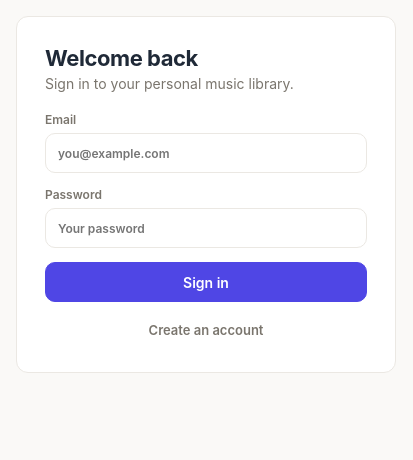
Test case: Login › submits entered credentials and shows authentication errors
Type "pianist@example.com" into the field labelled "Email". click: point(206, 153)
box: [45, 133, 367, 173]
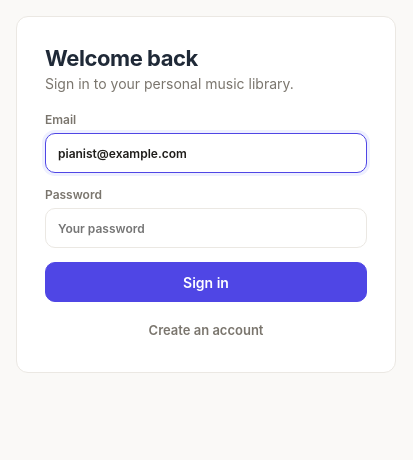
Type "not-a-real-password" into the password field labelled "Password". click: point(206, 228)
box: [45, 208, 367, 248]
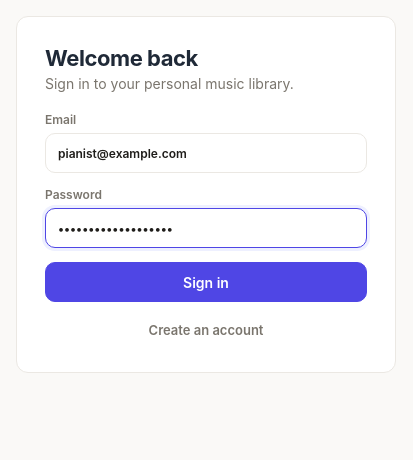
Click the button "Sign in". click: point(206, 282)
box: [45, 262, 367, 302]
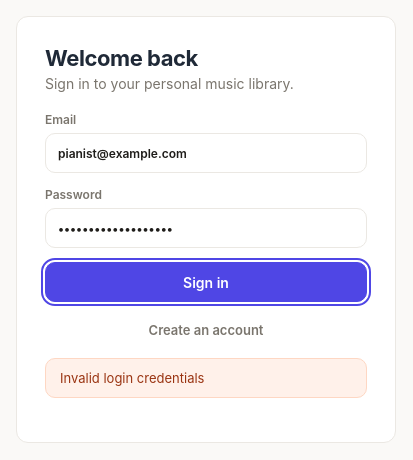
Now the text "Invalid login credentials" is shown, box [45, 358, 367, 398]
